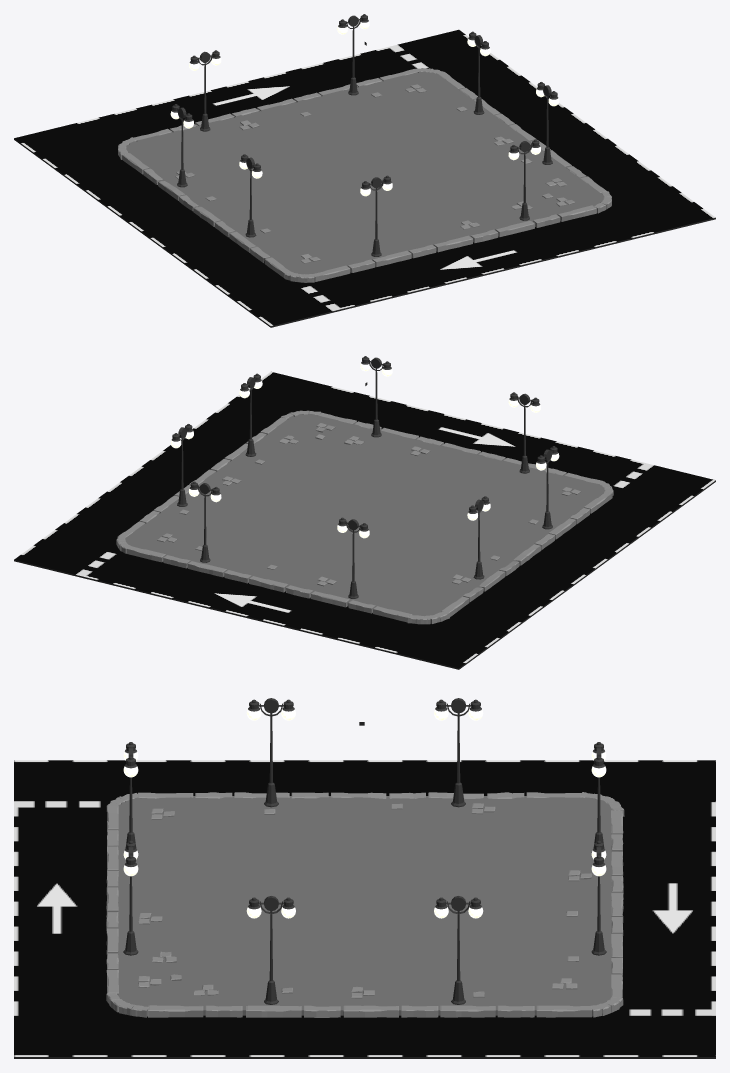
File: Ground.glb
The picture shows the model from 3 angles, top to bottom: view 1: azimuth 30°, elevation 25°; view 2: azimuth 150°, elevation 25°; view 3: azimuth 270°, elevation 25°; orthographic projection. The views are drawn at different scales.
Parts seen in each view (by area): view 1: CityGround; view 2: CityGround; view 3: CityGround.
Part boxes in pixels (x1=…): CityGround: x1=14, y1=14, x2=715, y2=327; CityGround: x1=14, y1=356, x2=715, y2=669; CityGround: x1=14, y1=698, x2=715, y2=1058.
Size of the model in its own units: 3 by 0.8893 by 3.
5 materials, 1 textured.
